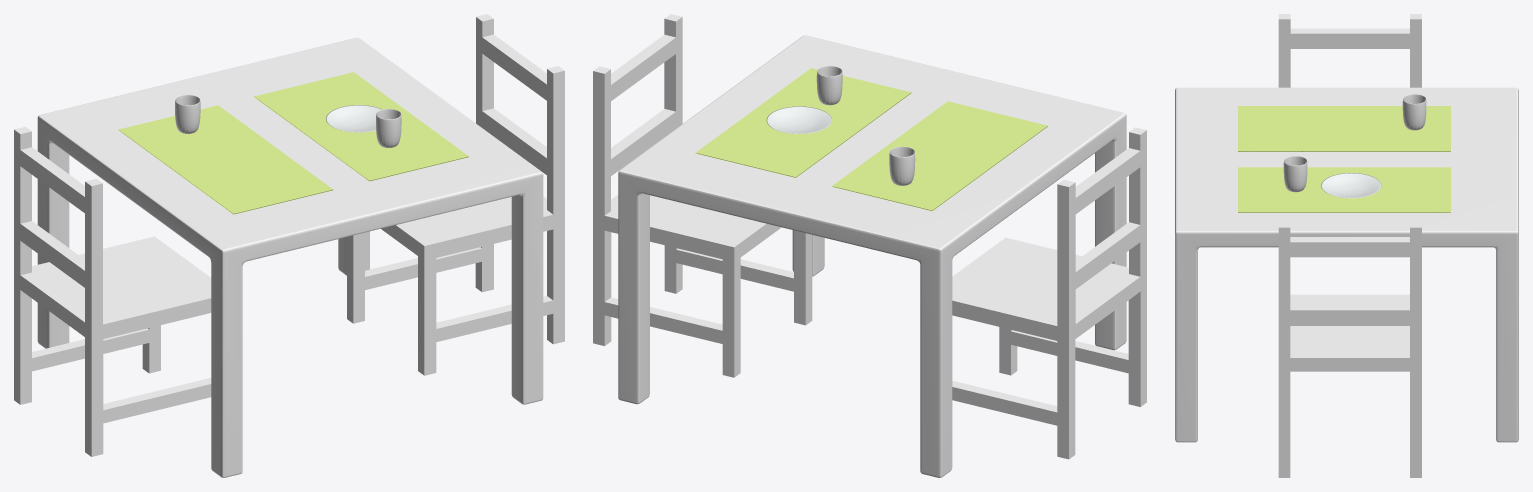
File: dinning table[1].glb
3 renders of one model, left to right at view 1: azimuth 30°, elevation 25°; view 2: azimuth 150°, elevation 25°; view 3: azimuth 270°, elevation 25°, orthographic. The views are drawn at different scales.
Parts seen in each view (by area): view 1: table, chair2, chair1, table_cloth1, table_cloth2, plate2, cup1, cup2; view 2: table, chair2, chair1, table_cloth1, table_cloth2, plate2, cup2, cup1; view 3: table, chair1, table_cloth1, table_cloth2, chair2, plate2, cup1, cup2.
Part boxes in pixels (x1,y1,x2,y2): table: [37, 37, 543, 477]; chair2: [14, 126, 211, 456]; chair1: [347, 14, 564, 375]; table_cloth1: [118, 105, 333, 214]; table_cloth2: [254, 72, 468, 181]; plate2: [326, 105, 381, 132]; cup1: [175, 95, 200, 133]; cup2: [376, 109, 401, 147]; table: [618, 35, 1126, 477]; chair2: [952, 127, 1146, 459]; chair1: [593, 14, 812, 377]; table_cloth1: [832, 101, 1047, 211]; table_cloth2: [695, 68, 911, 177]; plate2: [766, 106, 831, 133]; cup2: [816, 66, 842, 105]; cup1: [889, 146, 915, 185]; table: [1175, 87, 1518, 442]; chair1: [1278, 222, 1421, 477]; table_cloth1: [1238, 106, 1450, 151]; table_cloth2: [1238, 167, 1450, 212]; chair2: [1278, 14, 1421, 87]; plate2: [1321, 173, 1381, 198]; cup1: [1402, 94, 1426, 130]; cup2: [1283, 156, 1307, 192].
Bounding box in the file's own units: 1.76 × 0.9606 × 1.2.
